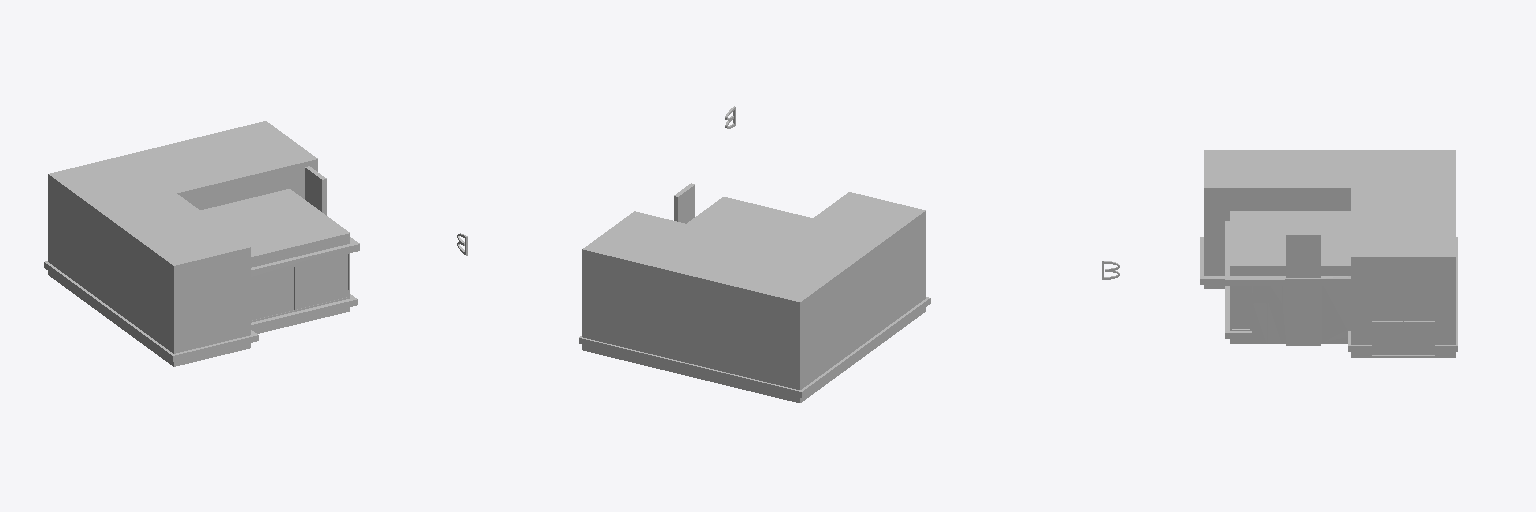
The picture shows the model from 3 angles: view 1: azimuth 30°, elevation 25°; view 2: azimuth 150°, elevation 25°; view 3: azimuth 270°, elevation 25°; orthographic projection.
Parts seen in each view (by area): view 1: Cube.001, red-build; view 2: Cube.001, red-build; view 3: Cube.001, red-build.
Boxes of the visible parts, <box> form: Cube.001: <box>44,121,359,366</box>; red-build: <box>305,166,326,215</box>; Cube.001: <box>579,192,930,402</box>; red-build: <box>674,183,694,223</box>; Cube.001: <box>1200,150,1457,357</box>; red-build: <box>1286,233,1320,345</box>.
Bounding box in the file's own units: 366 × 162 × 459.